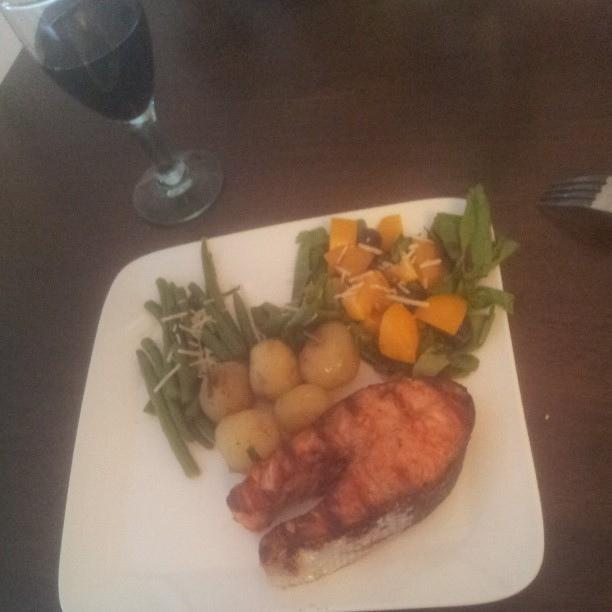green bean: (136, 349, 201, 478), (142, 337, 197, 442), (174, 286, 235, 362), (205, 252, 242, 337), (156, 277, 181, 400), (205, 302, 249, 361), (233, 291, 259, 352), (172, 342, 196, 405), (184, 415, 215, 449), (194, 400, 217, 442), (144, 299, 162, 326), (166, 281, 177, 309), (202, 236, 207, 292), (167, 343, 175, 364)
potato: (214, 410, 284, 473), (298, 320, 360, 391), (202, 360, 258, 426), (249, 338, 305, 402), (274, 384, 335, 435)
